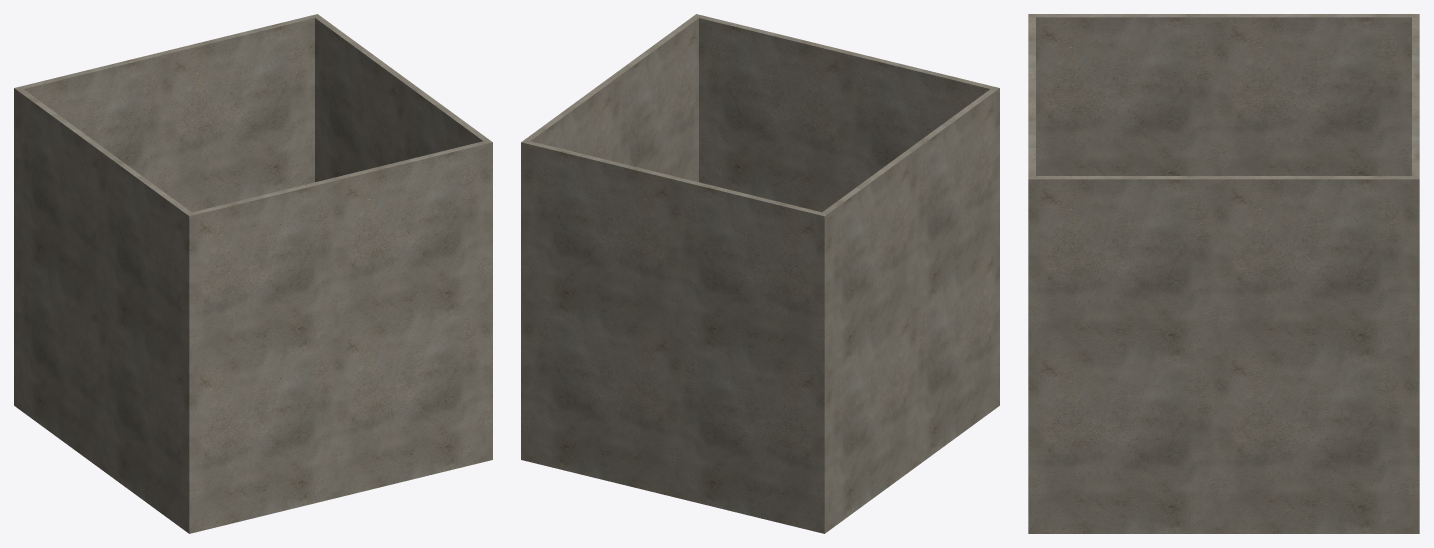
The model's file is maps.glb.
3 renders of one model, left to right at view 1: azimuth 30°, elevation 25°; view 2: azimuth 150°, elevation 25°; view 3: azimuth 270°, elevation 25°, orthographic. The views are drawn at different scales.
Visible parts, largest first — view 1: Cube; view 2: Cube; view 3: Cube.
Part boxes in pixels (bbox=[...]): Cube: bbox=[14, 14, 492, 533]; Cube: bbox=[521, 14, 999, 533]; Cube: bbox=[1028, 14, 1419, 533].
Size of the model in its own units: 8.61 by 8.61 by 8.61.
1 material, 1 textured.
